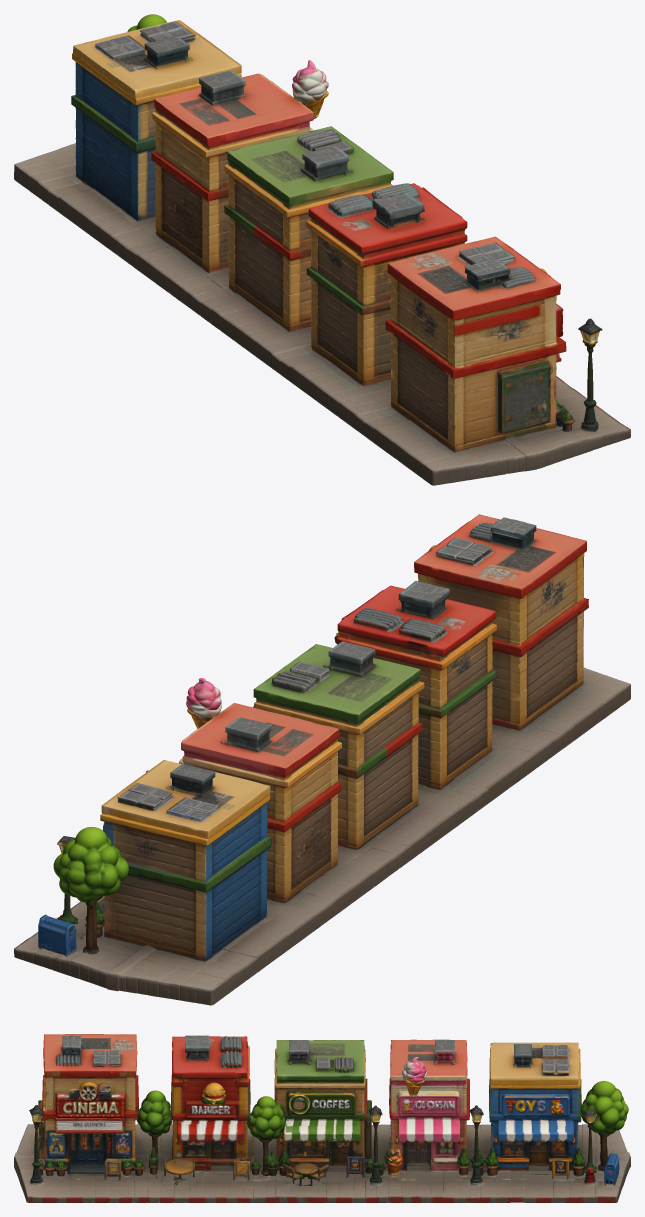
Rendered from city_right.glb.
3 views of the same model, one above another, from view 1: azimuth 30°, elevation 25°; view 2: azimuth 150°, elevation 25°; view 3: azimuth 270°, elevation 25° (orthographic). The views are drawn at different scales.
Parts seen in each view (by area): view 1: tripo_node_71443d57-f2cb-42a8-815a-d207c7706fbd; view 2: tripo_node_71443d57-f2cb-42a8-815a-d207c7706fbd; view 3: tripo_node_71443d57-f2cb-42a8-815a-d207c7706fbd.
Part boxes in pixels (<box>): tripo_node_71443d57-f2cb-42a8-815a-d207c7706fbd: <box>14,14,630,485</box>; tripo_node_71443d57-f2cb-42a8-815a-d207c7706fbd: <box>14,514,630,1005</box>; tripo_node_71443d57-f2cb-42a8-815a-d207c7706fbd: <box>14,1034,630,1202</box>.
Size of the model in its own units: 0.2568 by 0.2288 by 0.9786.
Materials: 1 (1 with a texture image).
